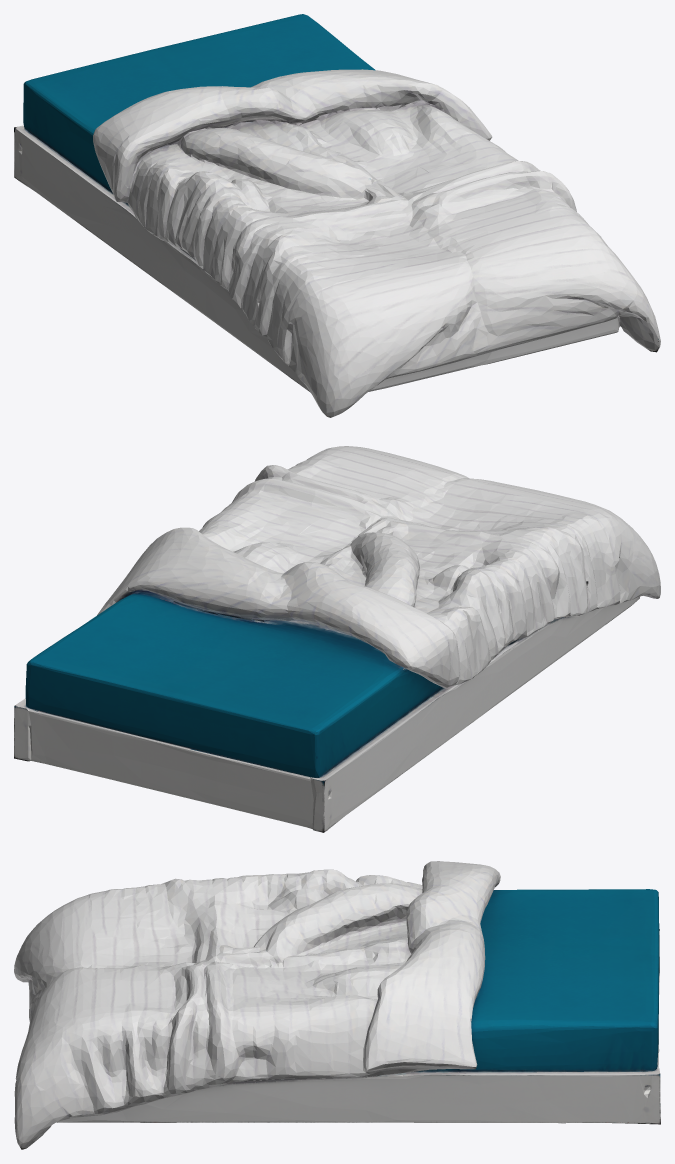
Rendered from bed_bedding.glb.
3 renders of one model, top to bottom at view 1: azimuth 30°, elevation 25°; view 2: azimuth 150°, elevation 25°; view 3: azimuth 270°, elevation 25°, orthographic. The views are drawn at different scales.
Parts seen in each view (by area): view 1: geometry_0; view 2: geometry_0; view 3: geometry_0.
Part boxes in pixels (x1,y1,x2,y2): geometry_0: [14, 14, 660, 417]; geometry_0: [14, 446, 660, 832]; geometry_0: [14, 861, 660, 1149].
Size of the model in its own units: 0.6067 by 0.269 by 0.9946.
Materials: 1 (1 with a texture image).
